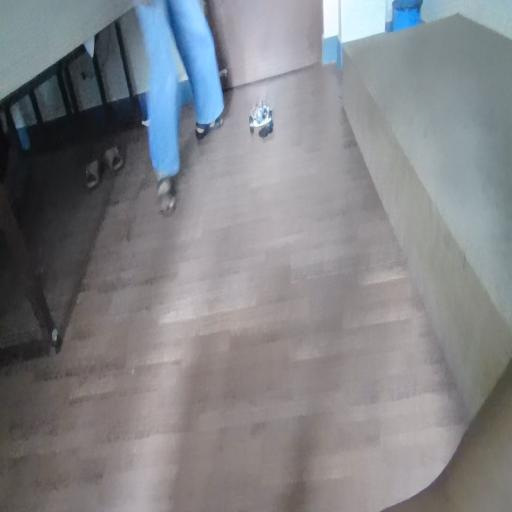car: (250, 92, 290, 152)
